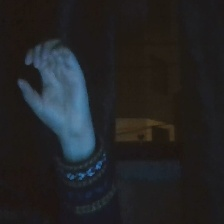C: (10, 36, 101, 140)
